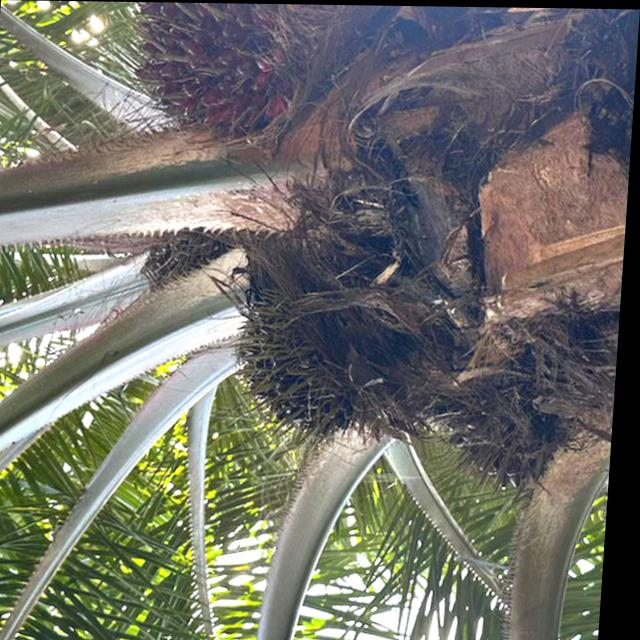unripe: (228, 265, 398, 453)
